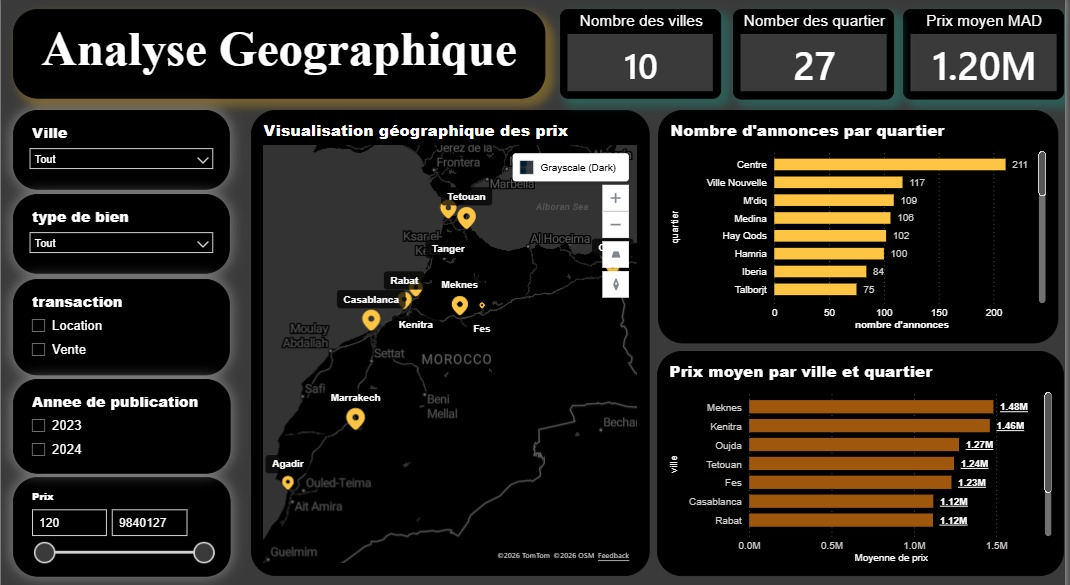

This screenshot's page, from the dashboard's own definition file:
{"tool":"powerbi","page":{"name":"Analyse Geographique","canvas":[1280,720],"ordinal":2},"visuals":[{"type":"textbox","box":[14.4,16.9,640.5,108.4],"z":0},{"type":"slicer","fields":{"Values":["bi_schema dim_location.ville"]},"box":[14.4,138,261.4,96.4],"z":1000},{"type":"azureMap","title":"Visualisation géographique des prix","fields":{"Category":["bi_schema dim_location.ville"],"Size":["Count(bi_schema fact_annonces.annonce_id)"]},"box":[300.8,138.6,480.7,581],"z":2000},{"type":"slicer","fields":{"Values":["bi_schema dim_bien.type_bien"]},"box":[14.4,240.1,261.4,96.4],"z":3000},{"type":"slicer","fields":{"Values":["bi_schema dim_transaction.transaction"]},"box":[14.4,341.6,261.4,115.7],"z":4000},{"type":"slicer","fields":{"Values":["bi_schema fact_annonces.prix"]},"box":[14.4,580.6,261.5,119.7],"z":5000},{"type":"slicer","fields":{"Values":["bi_schema dim_date.annee_publication"]},"box":[14.4,462.3,262.1,113.6],"z":6000},{"type":"cardVisual","title":"Nombre des villes","fields":{"Data":["Count(bi_schema dim_location.ville)"]},"box":[673,16.9,193.8,108.4],"z":7000},{"type":"cardVisual","title":"Prix moyen MAD","fields":{"Data":["Avg(bi_schema fact_annonces.prix)"]},"box":[1085.9,16.5,194.1,108.7],"z":8000},{"type":"cardVisual","title":"Nomber des quartier","fields":{"Data":["Count(bi_schema dim_location.quartier)"]},"box":[880.9,16.5,194.1,108.7],"z":9000},{"type":"barChart","title":"Prix moyen par ville et quartier","fields":{"Category":["bi_schema dim_location.ville","bi_schema dim_location.quartier"],"Y":["Avg(bi_schema fact_annonces.prix)"]},"box":[790.4,432.1,489.6,287.6],"z":11000},{"type":"clusteredBarChart","title":"Nombre d''annonces par quartier","fields":{"Y":["Count(bi_schema fact_annonces.annonce_id)"],"Category":["bi_schema dim_location.quartier"]},"box":[791,138.5,481.6,285.4],"z":12000}]}

Visuals, with their boxes in screenshot pixels (x1, y1, x2, y2), scaled from the page's 1280x720 canvas onto the 1070x585 screenshot:
textbox: (12, 14, 547, 102)
slicer - bi_schema dim_location.ville: (12, 112, 231, 190)
"Visualisation géographique des prix" azureMap: (251, 113, 653, 584)
slicer - bi_schema dim_bien.type_bien: (12, 195, 231, 273)
slicer - bi_schema dim_transaction.transaction: (12, 278, 231, 372)
slicer - bi_schema fact_annonces.prix: (12, 472, 231, 569)
slicer - bi_schema dim_date.annee_publication: (12, 376, 231, 468)
"Nombre des villes" cardVisual: (563, 14, 725, 102)
"Prix moyen MAD" cardVisual: (908, 13, 1069, 102)
"Nomber des quartier" cardVisual: (736, 13, 899, 102)
"Prix moyen par ville et quartier" barChart: (661, 351, 1069, 584)
"Nombre d''annonces par quartier" clusteredBarChart: (661, 113, 1064, 344)
